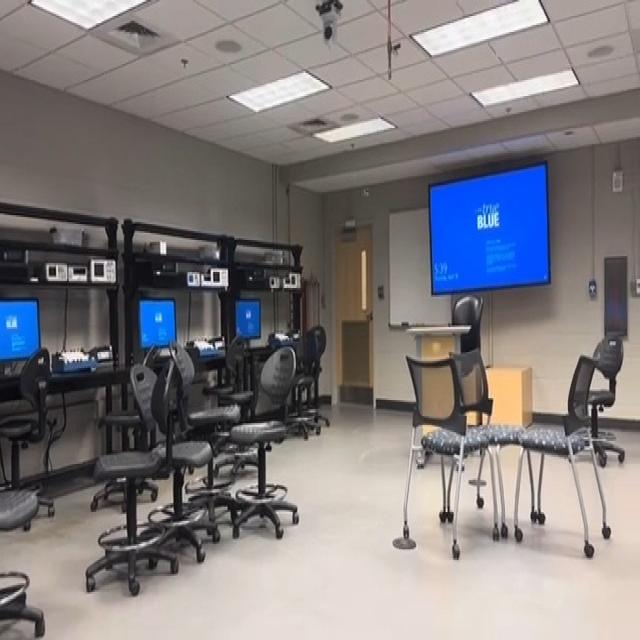drone: (350, 180, 375, 208)
